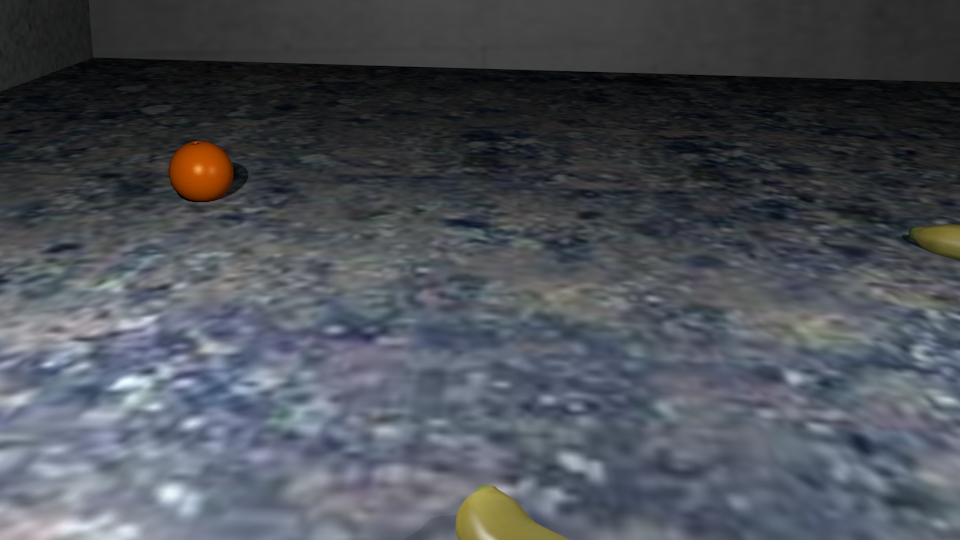banana: (456, 485, 570, 540), (910, 225, 960, 257)
orange: (170, 142, 233, 200)
